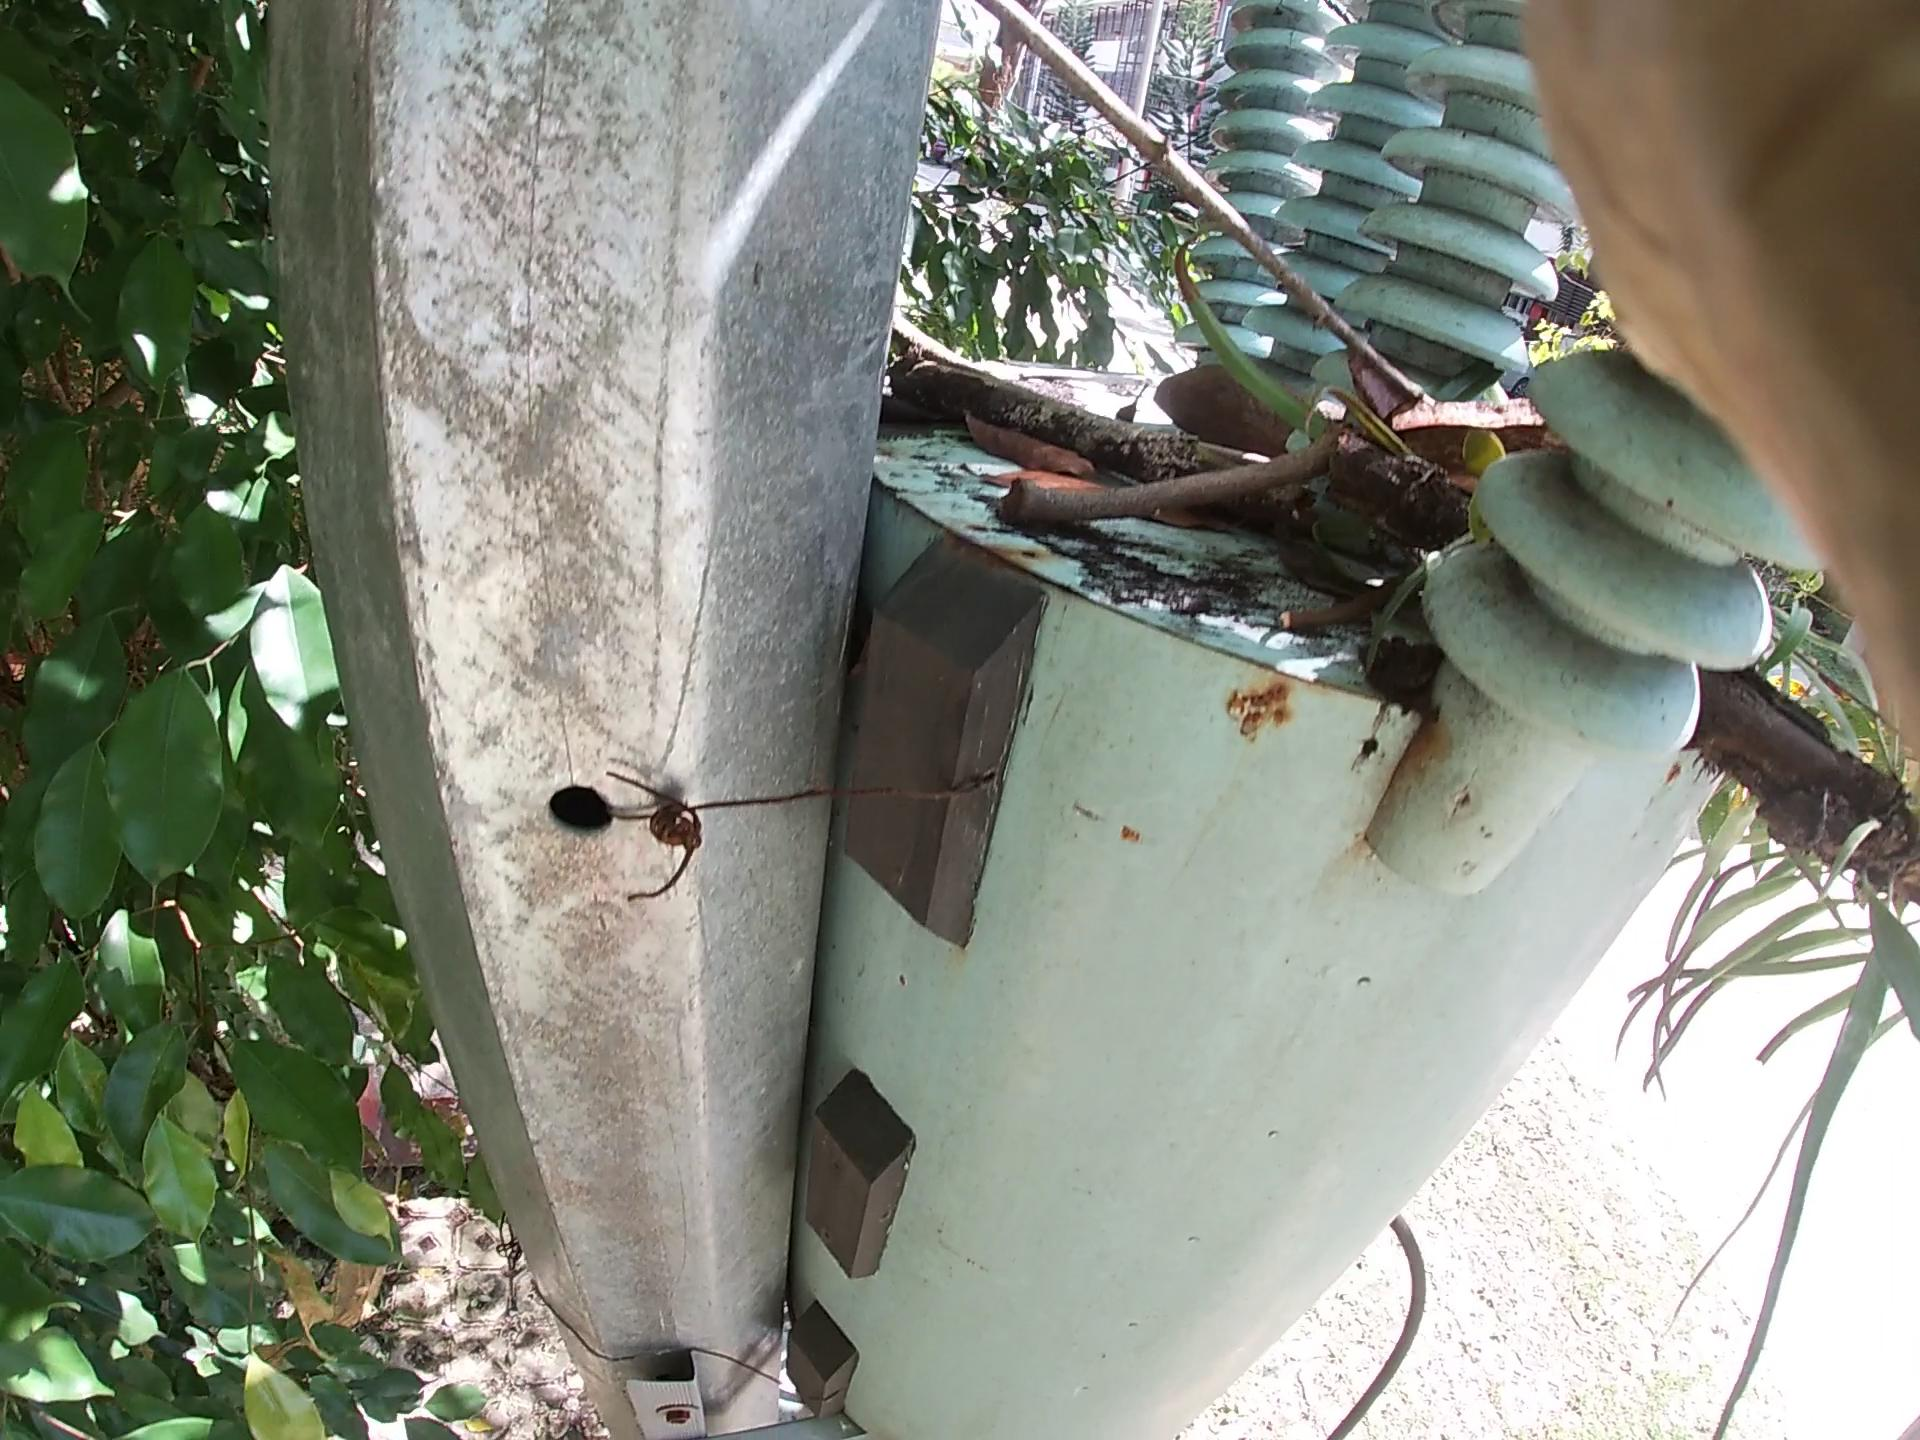leaf: (958, 384, 1342, 637)
mahogany fruit: (890, 315, 1920, 945), (1134, 324, 1398, 495), (1361, 312, 1544, 495)
tree branch: (1025, 35, 1426, 402), (992, 334, 1288, 436)
